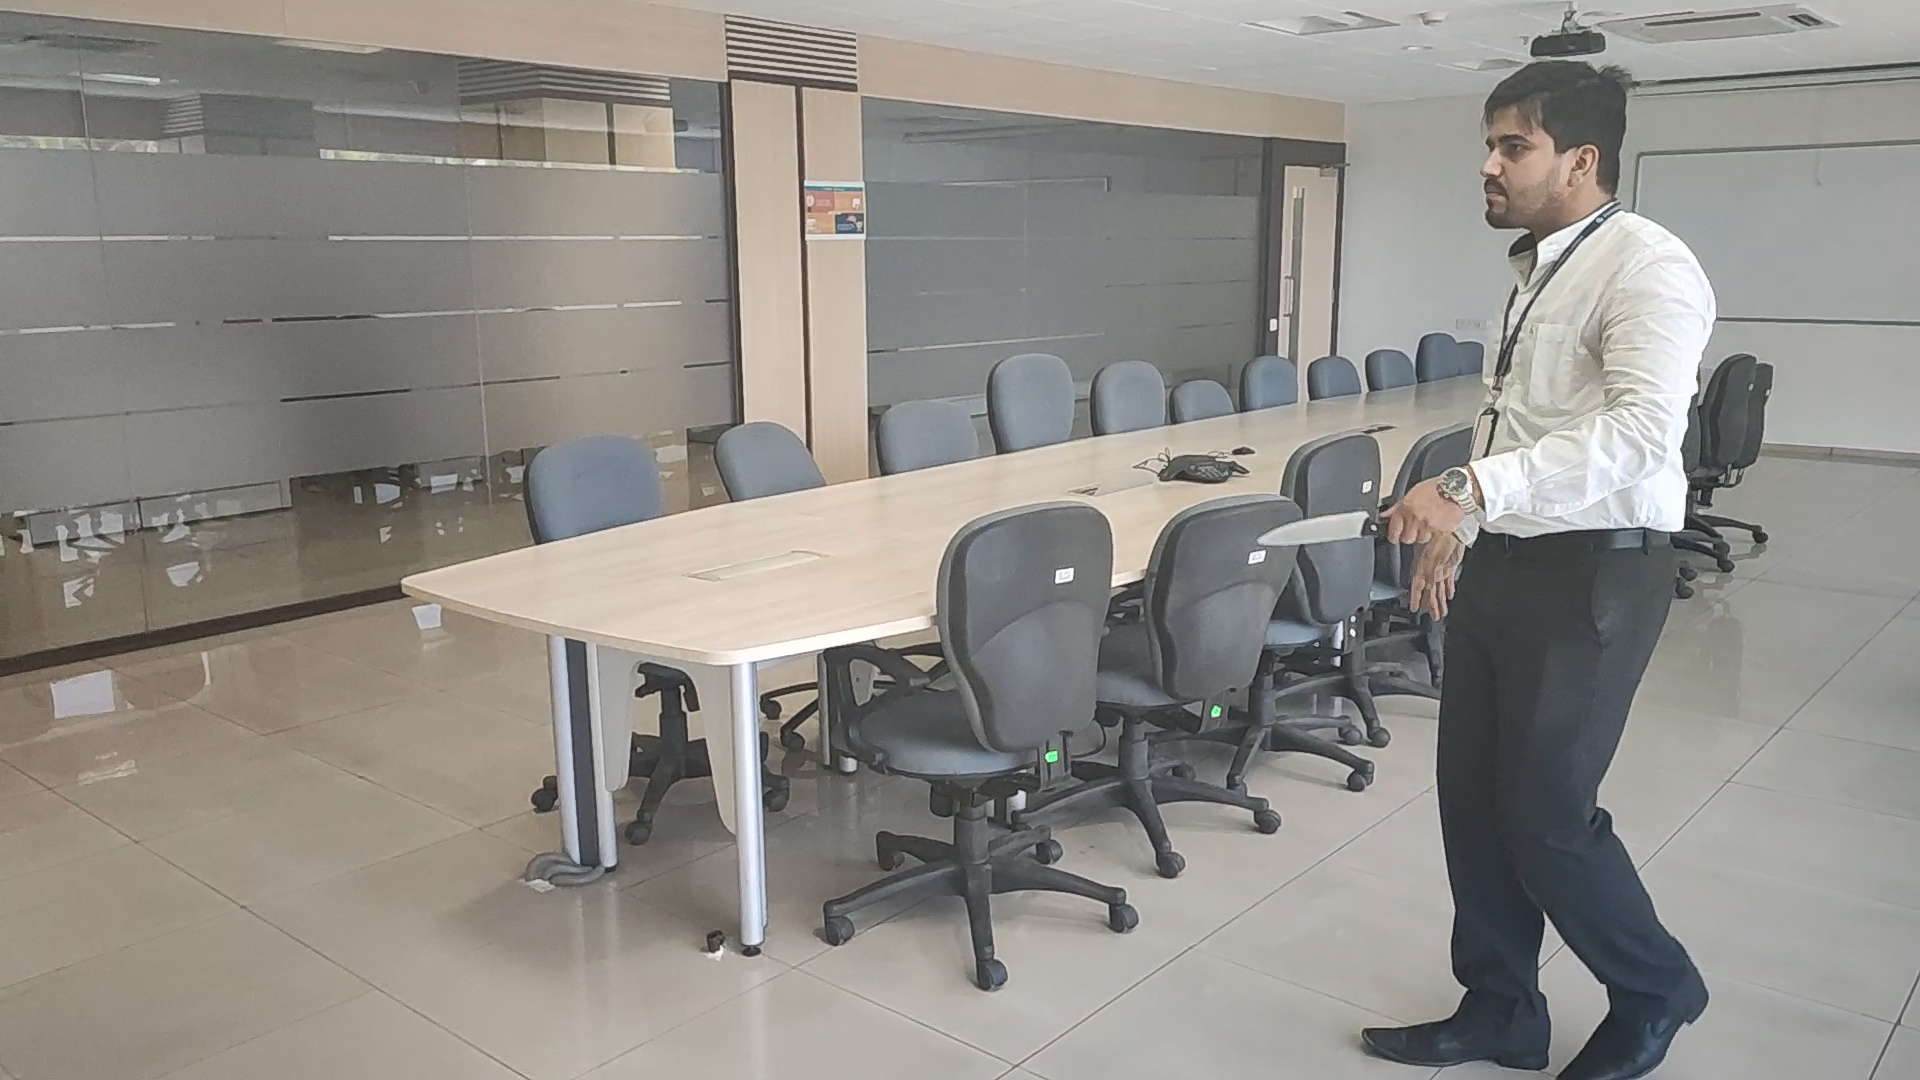knife: (1255, 510, 1377, 546)
